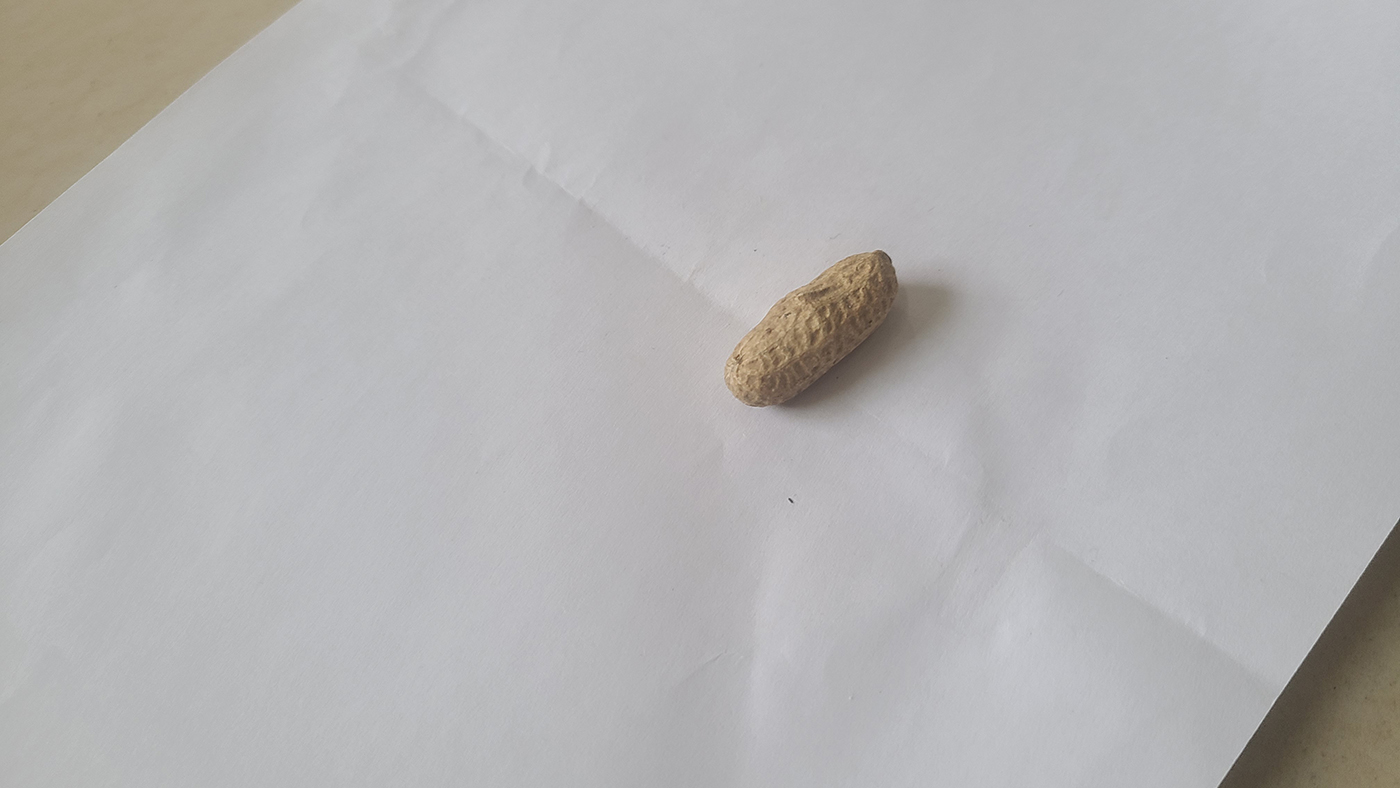h: (723, 248, 899, 408)
